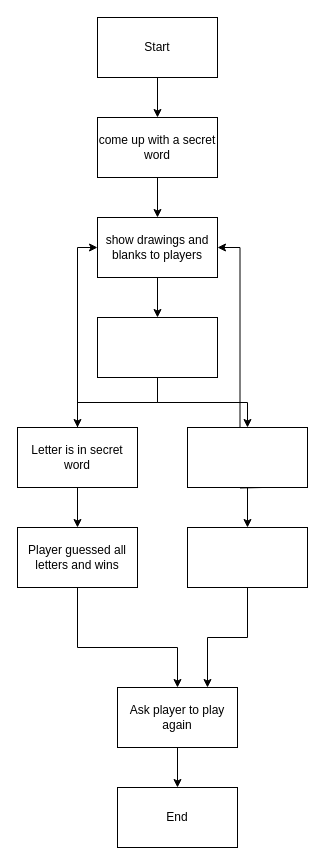
Image size: 325x865. Some labels were removed from this diagram. Here are the shapes that lost their labels. From the top down, the centre of each, then its label:
[157,347]: Ask a player to guess a letter
[247,457]: Letter is not in the secret word
[247,557]: Player ran out of guesses and looses
